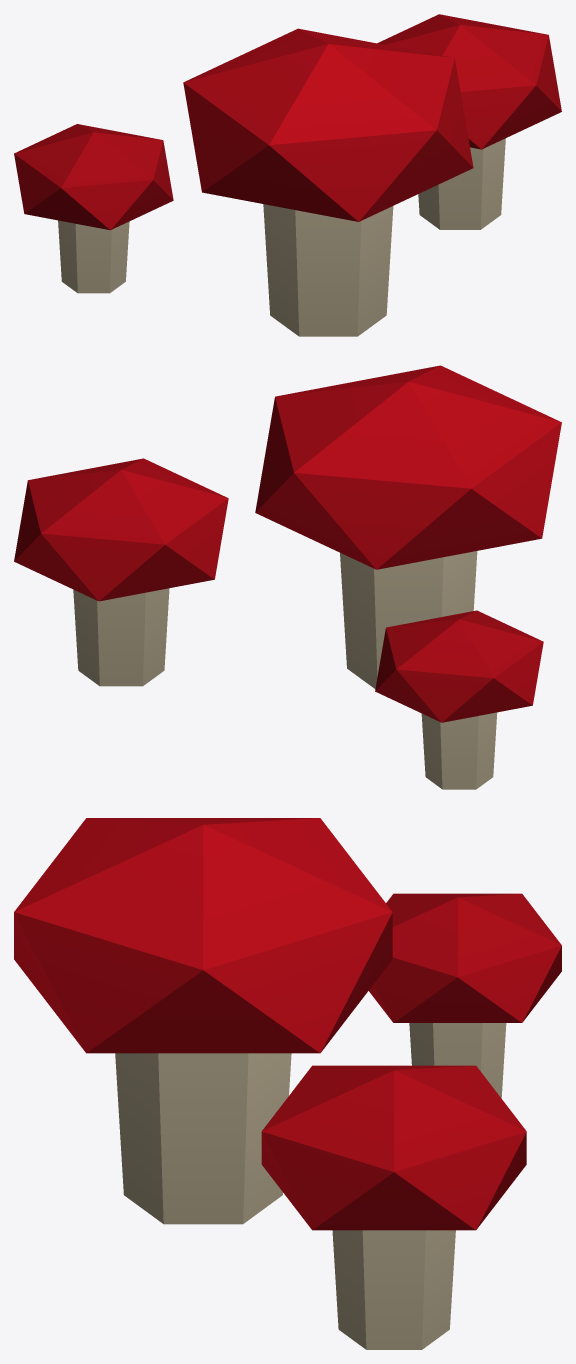
Rendered from mushroom.glb.
3 renders of one model, top to bottom at view 1: azimuth 30°, elevation 25°; view 2: azimuth 150°, elevation 25°; view 3: azimuth 270°, elevation 25°, orthographic. The views are drawn at different scales.
Visible parts, largest first — view 1: mushroom; view 2: mushroom; view 3: mushroom.
Part boxes in pixels (x1,y1,x2,y2): mushroom: (14, 14, 561, 336); mushroom: (14, 365, 561, 789); mushroom: (14, 818, 561, 1349).
Bounding box in the file's own units: 0.2483 × 0.1285 × 0.1723.
